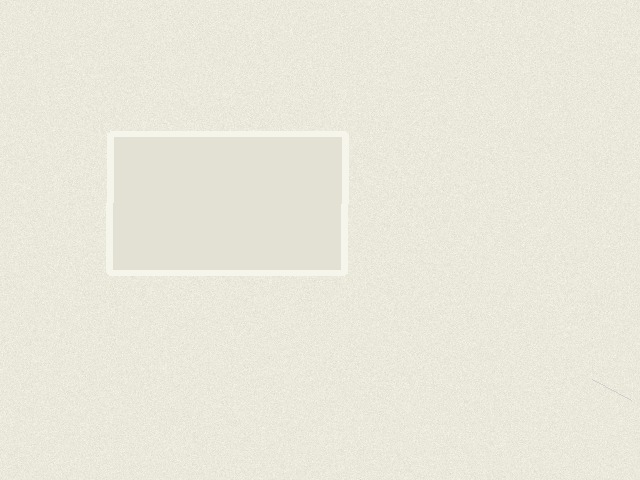parking_area: (109, 133, 345, 273)
